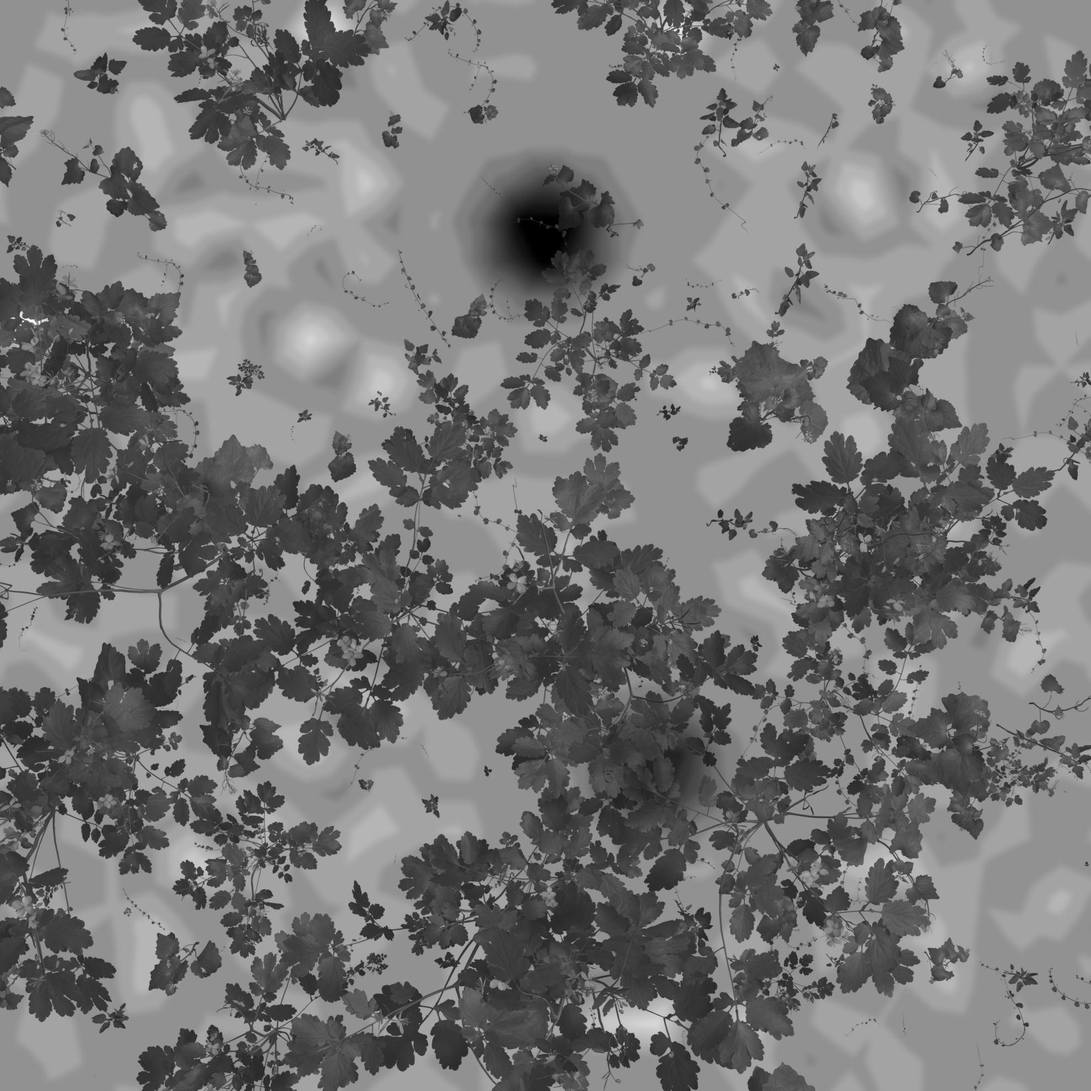landmine: (478, 168, 614, 309)
